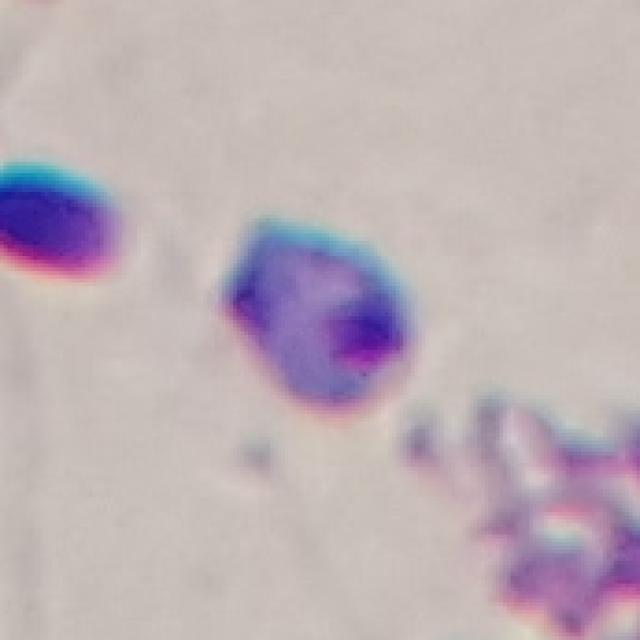non-sperm: (230, 226, 414, 410)
